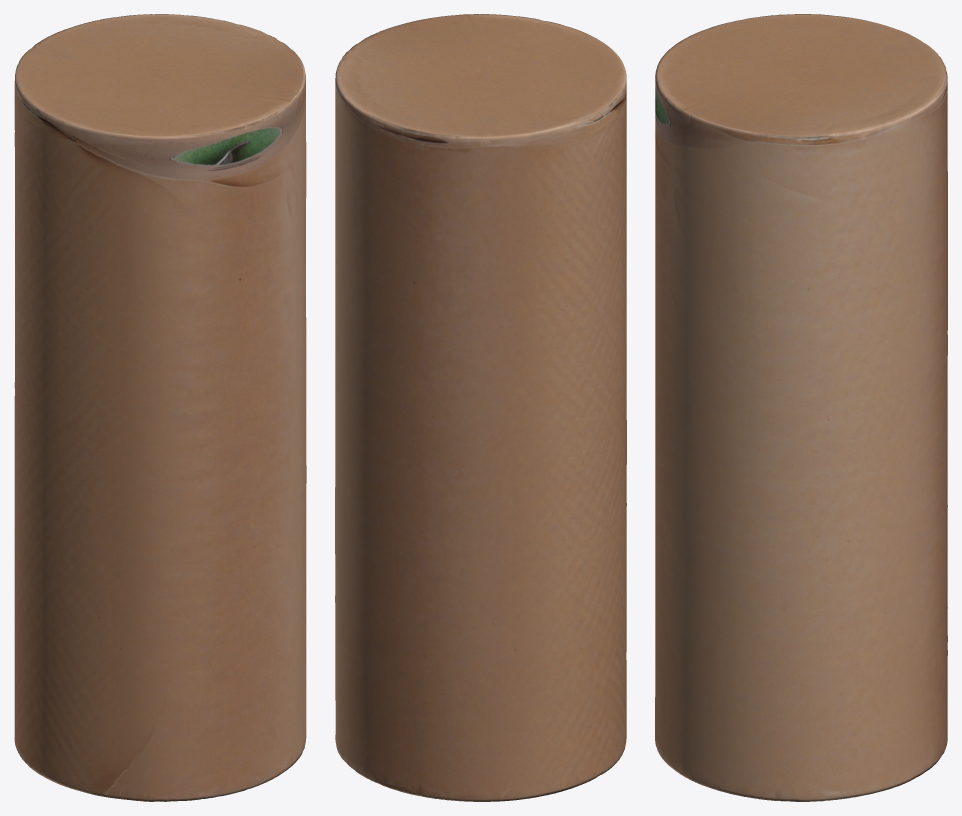
Rendered from Kraft_Paper_Roll_0904052409.fbx.
3 renders of one model, left to right at view 1: azimuth 30°, elevation 25°; view 2: azimuth 150°, elevation 25°; view 3: azimuth 270°, elevation 25°, orthographic.
Visible parts, largest first — view 1: Mesh_0; view 2: Mesh_0; view 3: Mesh_0.
Part boxes in pixels (box(x1,y1,x2,y2)): Mesh_0: box(14, 14, 306, 801); Mesh_0: box(335, 14, 626, 801); Mesh_0: box(655, 14, 947, 801).
Size of the model in its own units: 79.7 by 200 by 79.85.
1 material, 1 textured.
